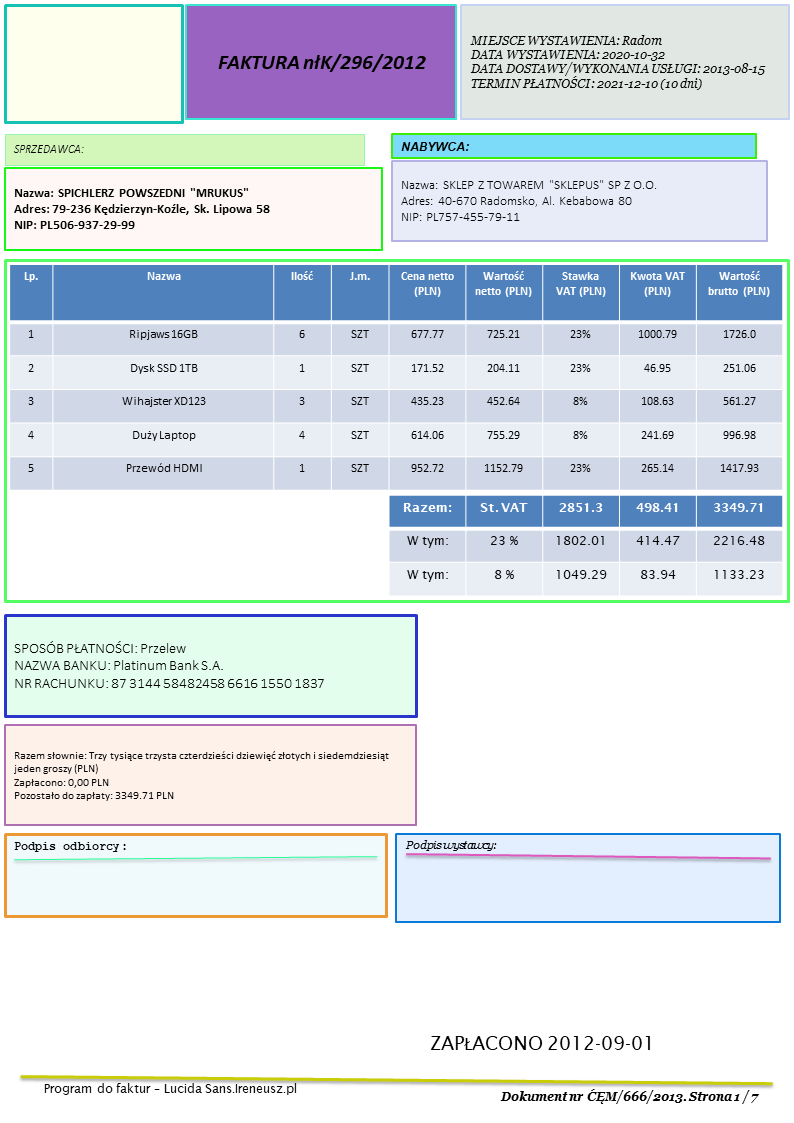Table: (8, 264, 782, 491), (387, 495, 781, 595)
TextBox: (12, 748, 391, 802), (467, 29, 768, 94), (12, 638, 327, 694), (10, 183, 273, 232), (398, 175, 658, 224), (426, 1030, 652, 1056), (212, 49, 431, 75), (499, 1086, 762, 1107), (41, 1080, 298, 1099), (12, 836, 128, 856), (403, 832, 497, 854), (11, 140, 84, 157), (400, 137, 471, 154)
